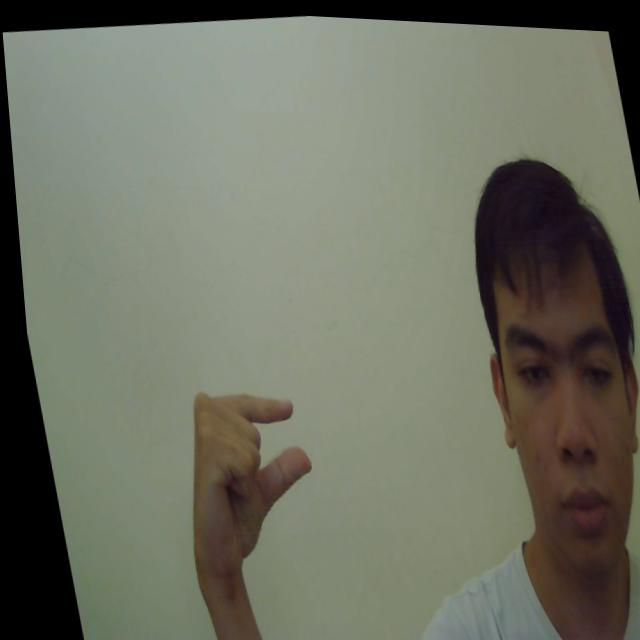G: (155, 375, 323, 575)
